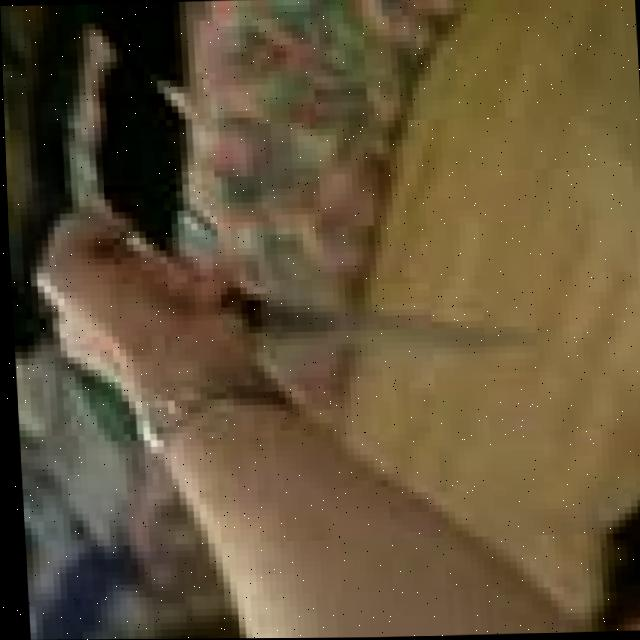knife: (240, 266, 544, 373)
